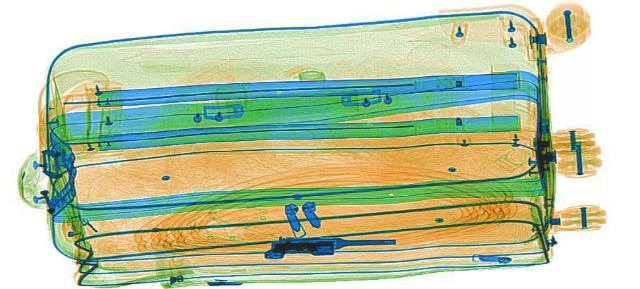Gun: (261, 232, 395, 263)
